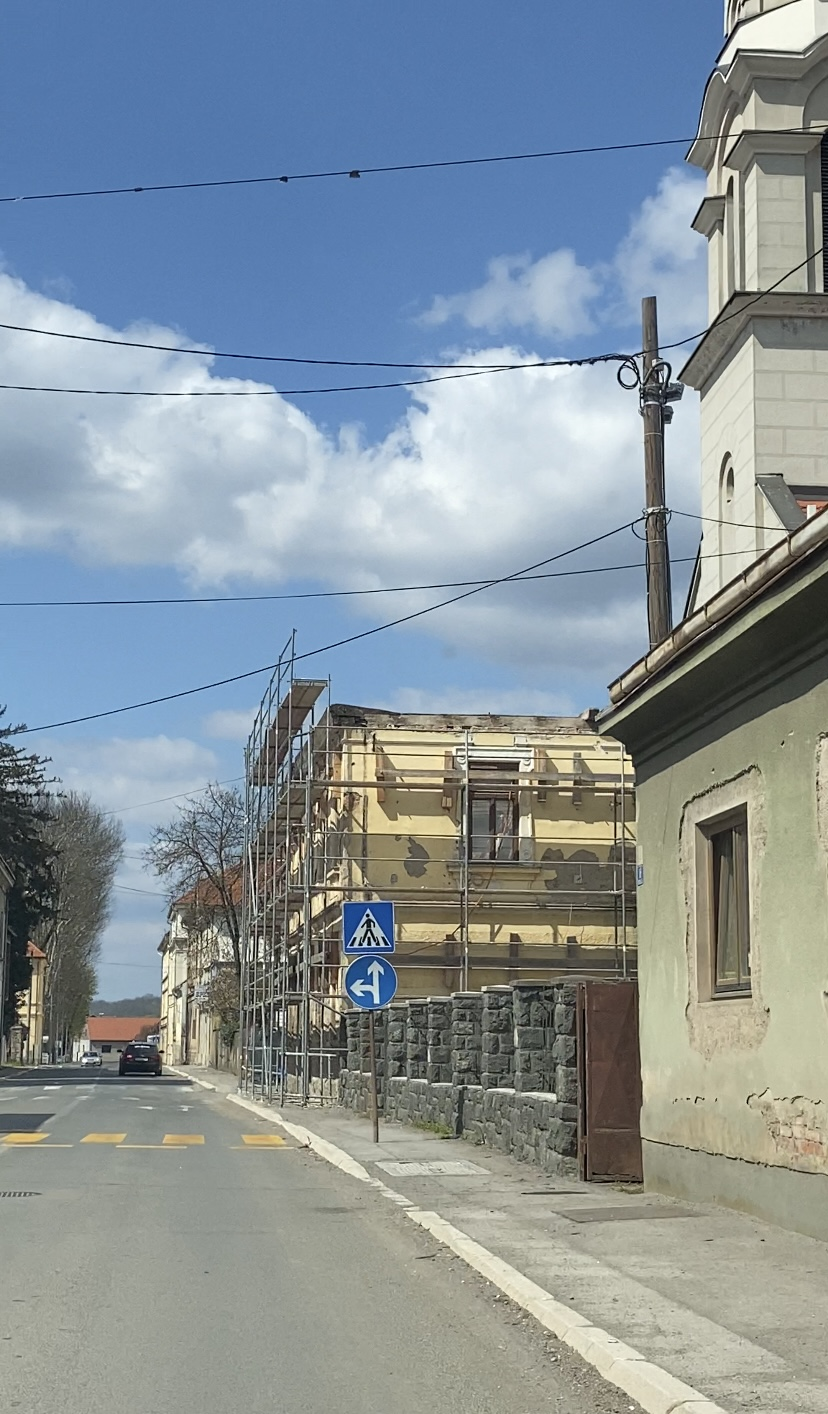Pješački prijelaz: (342, 901, 395, 954)
